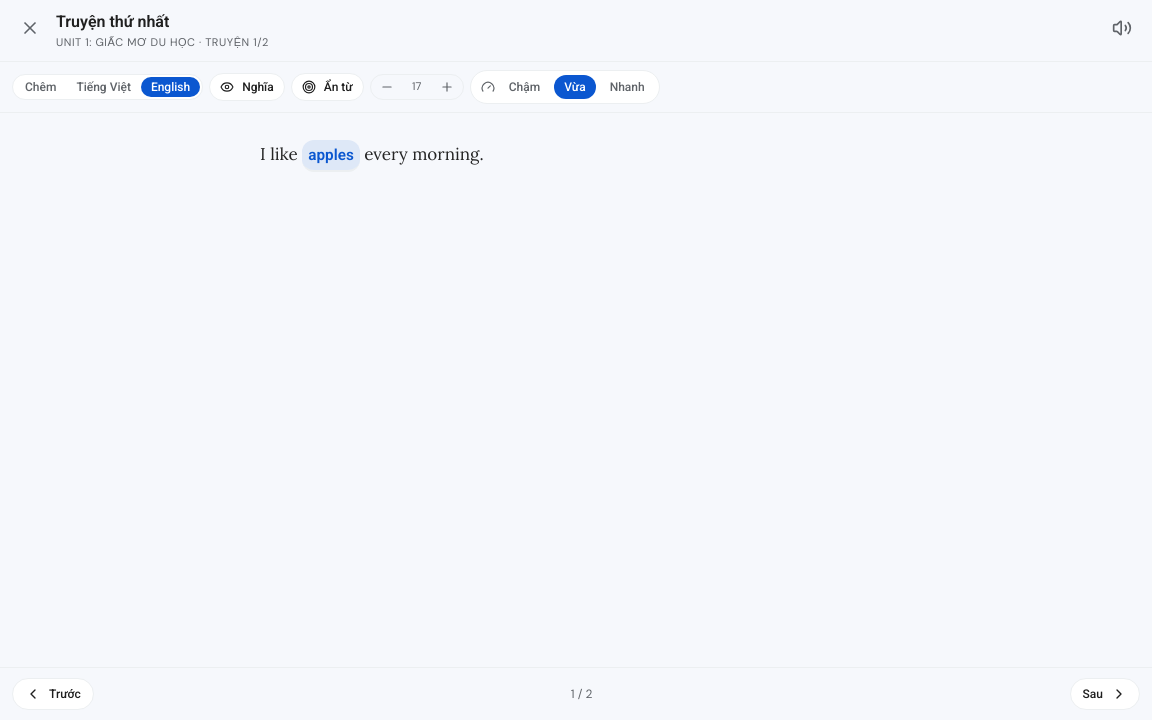
Test: StoryFullscreenReader › mặc định hiện bản tiếng Anh khi truyện có contentEn
Expected: the button with aria-label "apples — quả táo" is shown, [302,140,360,172]
Expected: the button "Nghĩa" is shown, [209,72,285,100]
// Chuyển sang Tiếng Việt → văn xuôi thuần, ẩn nút Nghĩa.
Click the button "Tiếng Việt" at (104,86), box [66,76,141,96]
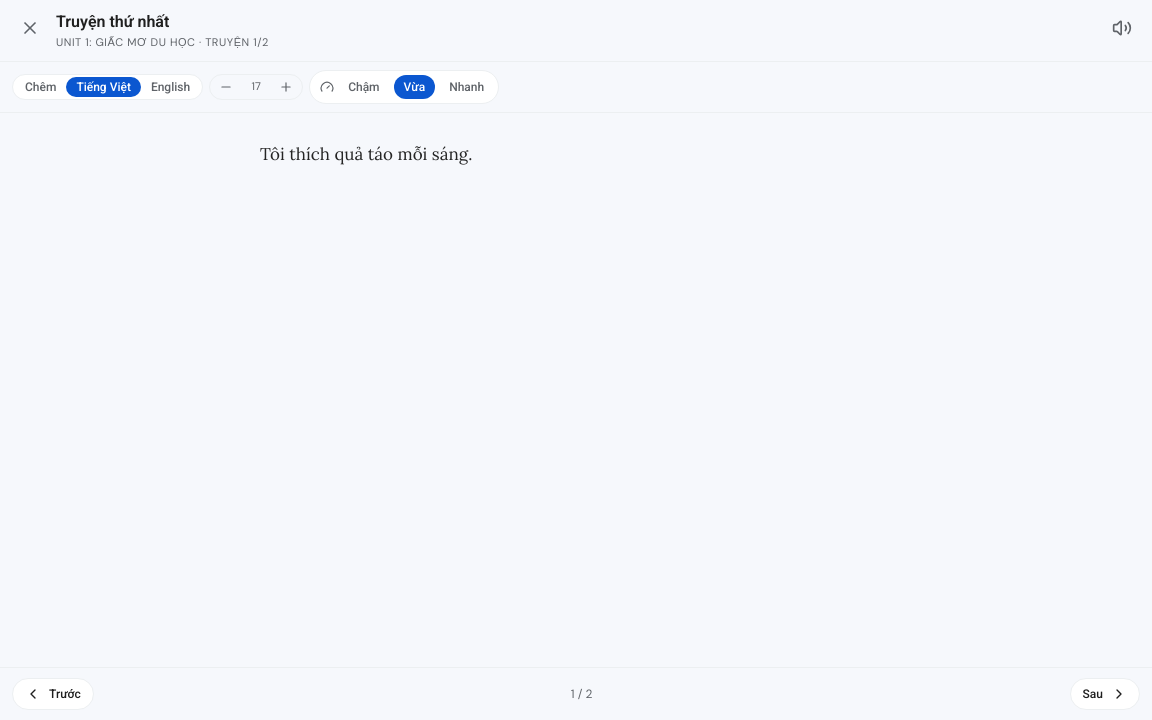
Now the text "Tôi thích quả táo mỗi sáng." is shown, box [260,142,472,164]
Now the button "Nghĩa" is gone
